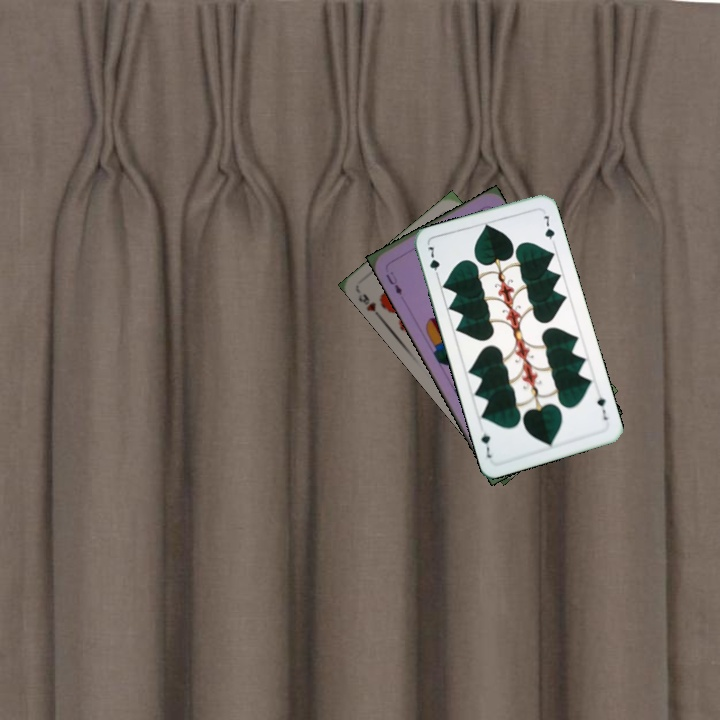EU: (382, 267, 405, 298)
G7: (423, 241, 442, 282), (593, 393, 610, 423)
H9: (354, 290, 384, 321)
